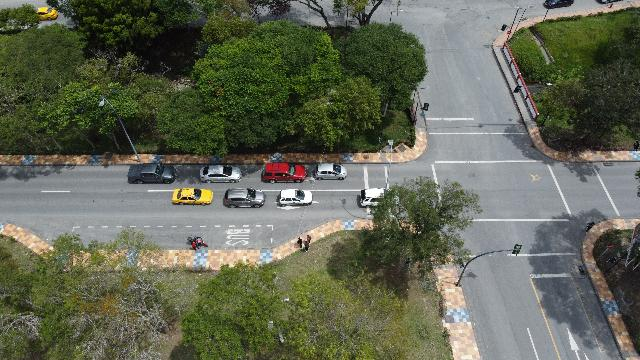Vehiculo: (127, 164, 177, 184), (262, 163, 306, 183), (223, 188, 265, 208), (358, 188, 398, 208), (199, 165, 241, 183), (172, 187, 212, 204), (276, 190, 312, 207), (315, 162, 347, 180), (36, 8, 58, 20), (543, 0, 573, 8)
